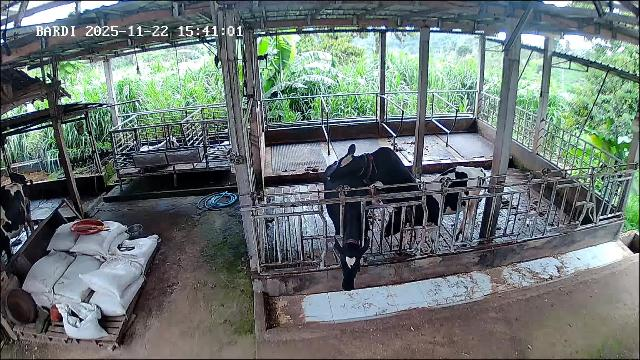mounting: (327, 144, 420, 208)
